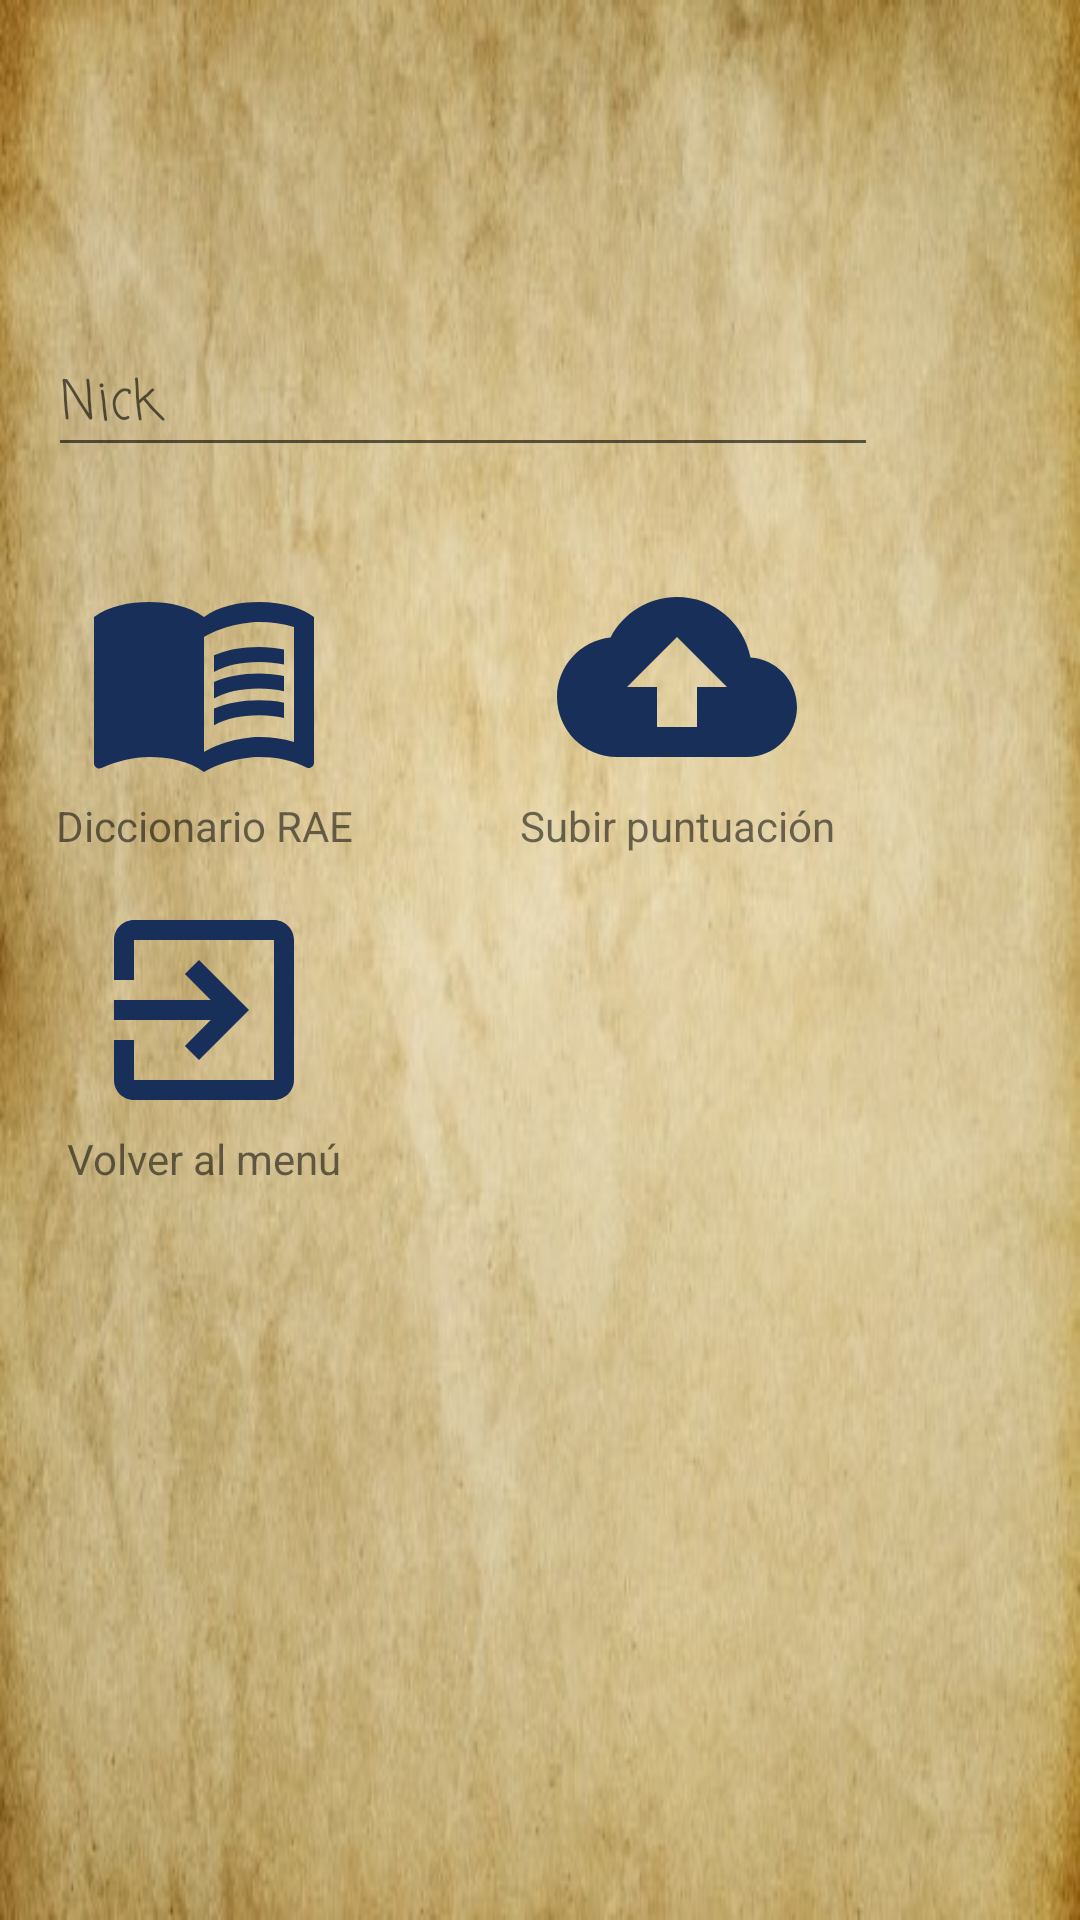

Icon click points for this 1080px×1920px phone screenshot, format point (x, y):
exit to app: point (204, 1010)
